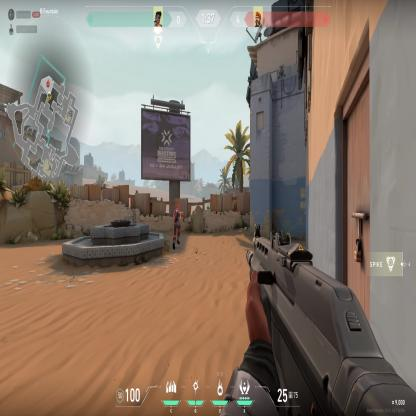enemy: (172, 204, 182, 250)
